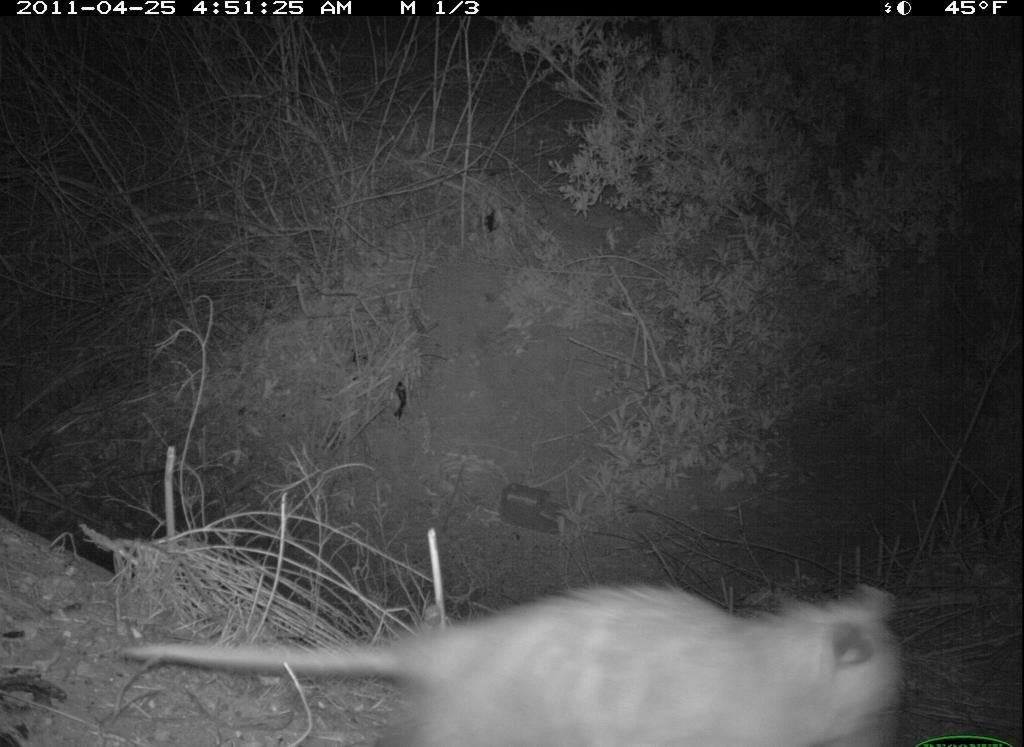opossum: (112, 575, 908, 747)
